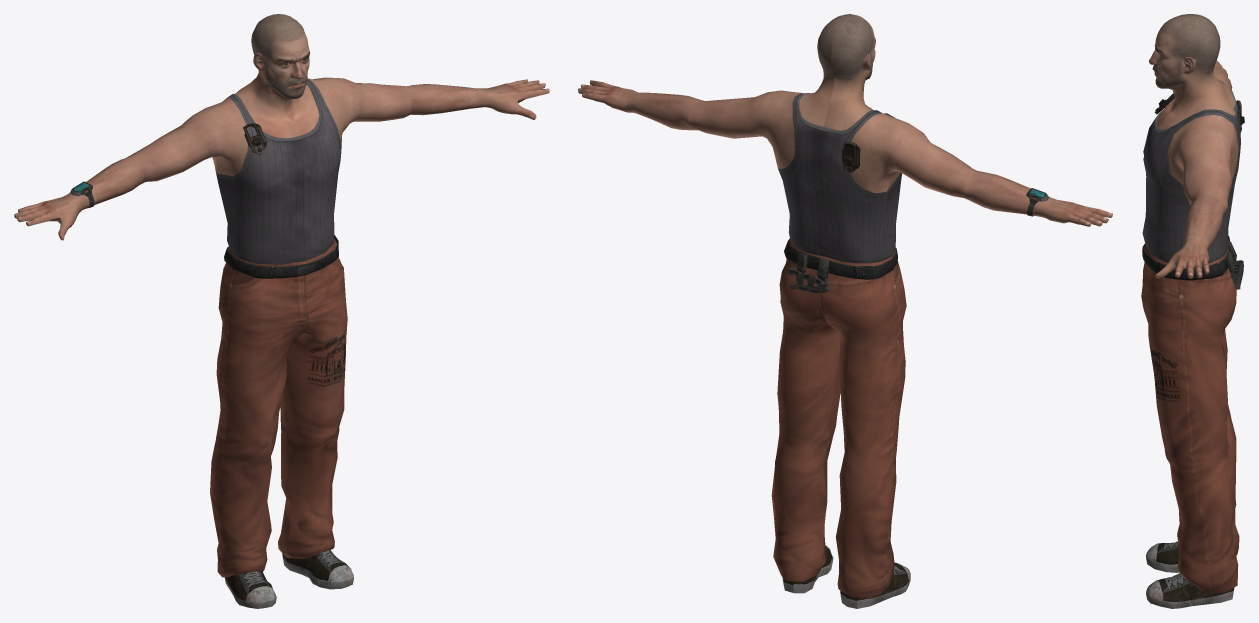
File: Sam.fbx
3 renders of one model, left to right at view 1: azimuth 30°, elevation 25°; view 2: azimuth 150°, elevation 25°; view 3: azimuth 270°, elevation 25°, orthographic.
Visible parts, largest first — view 1: sam00; view 2: sam00; view 3: sam00.
Boxes of the visible parts, box(x1,y1,x2,y2) form: sam00: box(14, 14, 549, 608); sam00: box(578, 14, 1112, 608); sam00: box(1141, 14, 1244, 608).
Size of the model in its own units: 43.4 by 44.68 by 7.41.
1 material, 1 textured.
